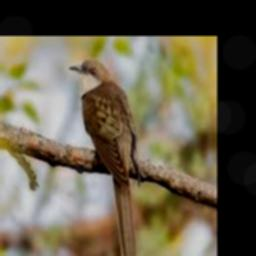Cuckoo: (69, 58, 139, 256)
